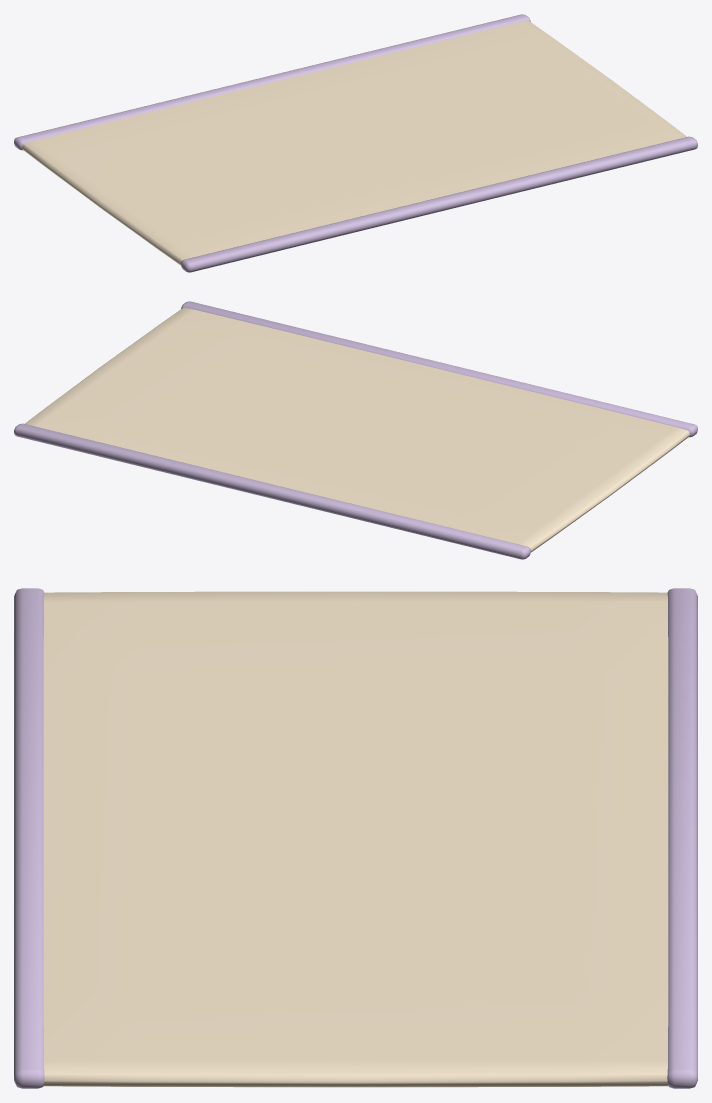
File: table_cover_c.glb
3 renders of one model, top to bottom at view 1: azimuth 30°, elevation 25°; view 2: azimuth 150°, elevation 25°; view 3: azimuth 270°, elevation 25°, orthographic. The views are drawn at different scales.
Visible parts, largest first — view 1: body; view 2: body; view 3: body.
Part boxes in pixels (box(x1,y1,x2,y2)): body: box(14, 14, 697, 272); body: box(14, 301, 697, 559); body: box(14, 588, 697, 1088).
Size of the model in its own units: 1.08 by 0.02 by 0.64.
